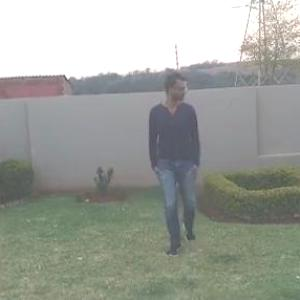follow: (151, 57, 213, 277)
